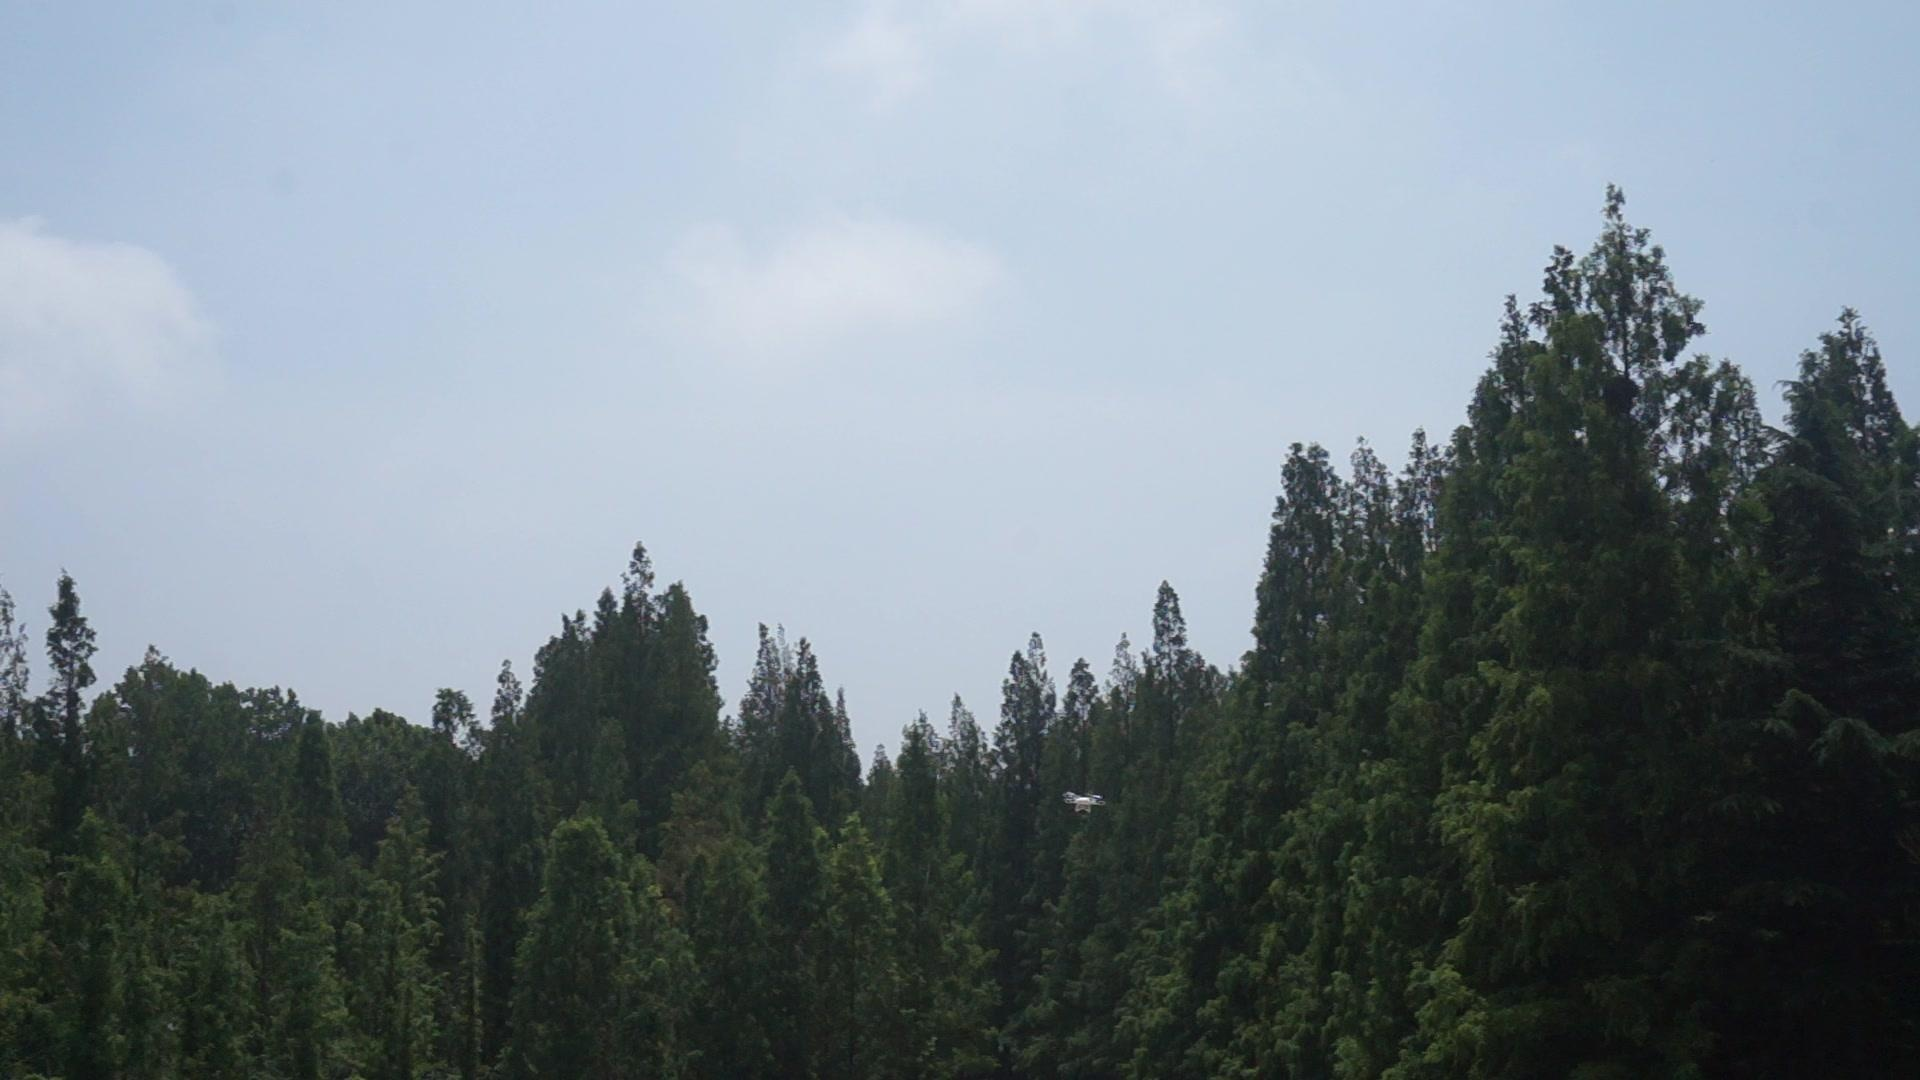UAV: (1063, 793, 1106, 814)
